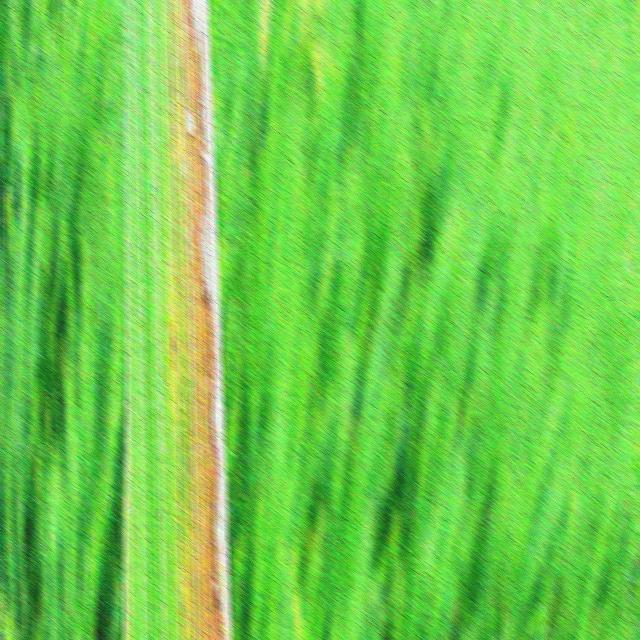BLB: (185, 0, 232, 640)
